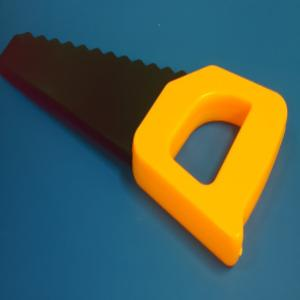serrote: (0, 32, 289, 268)
